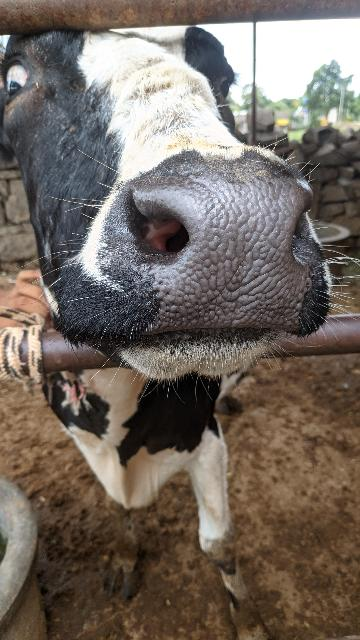Muzzle: (137, 186, 308, 326)
